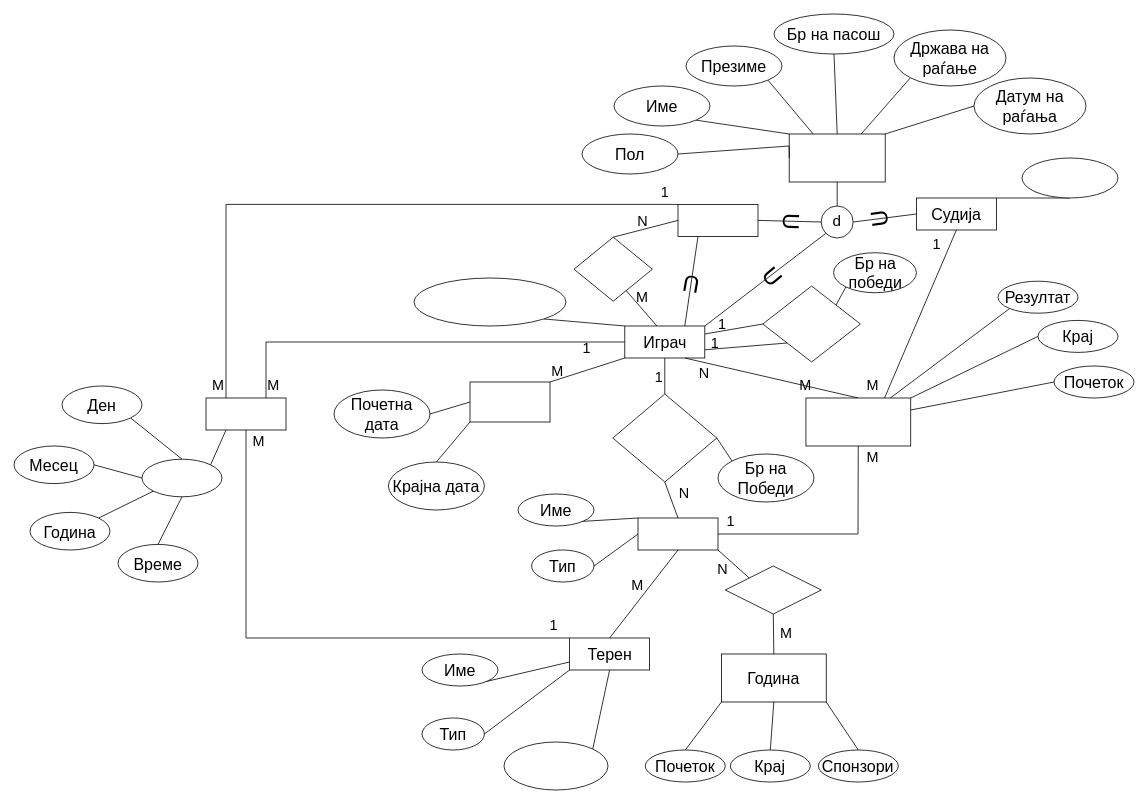
Image size: 1148x804. Some labels were removed from this diagram. Each missing label, with the centre of its shape:
Бр на седишта: point 555,765
Година на започнување: point 489,301
Датум: point 181,477
Е одржан: point 772,589
Е/бил Тренер: point 612,268
Искуство: point 1069,177
Натпревар: point 858,421
Најдобар Играч: point 664,437
Пар играчи: point 811,323
Ранг Место: point 509,401
Тренер: point 717,220
Тренинг: point 245,413
Турнир: point 677,533
Учесник: point 836,157
